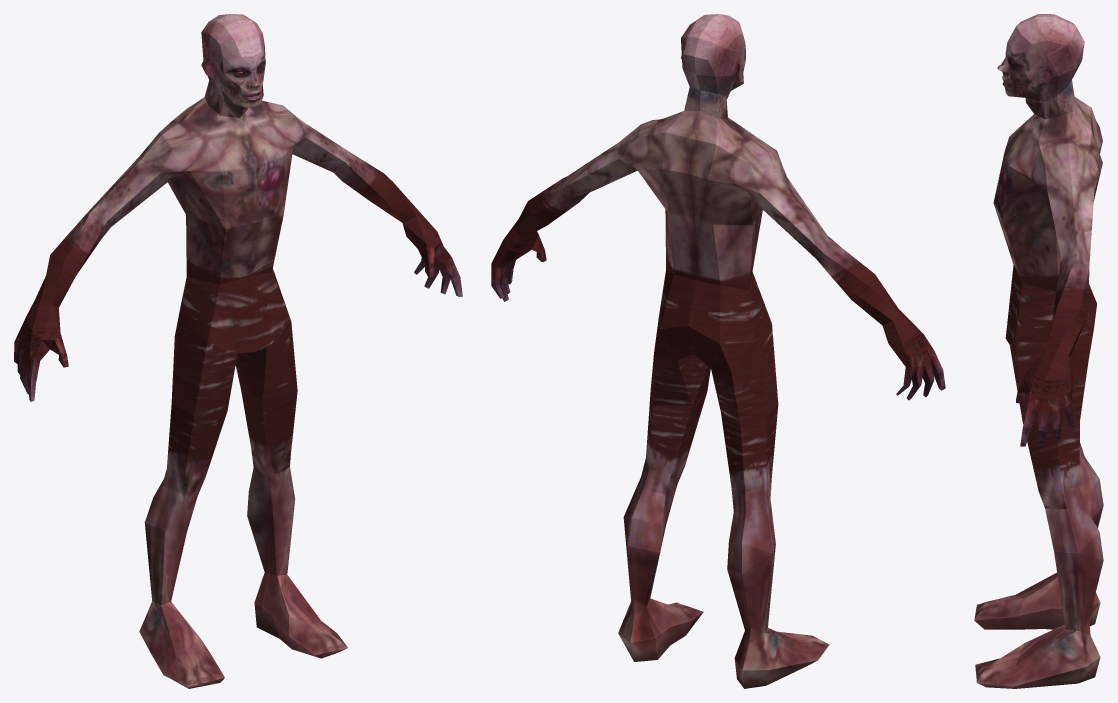
The model's file is zombie.obj.
3 renders of one model, left to right at view 1: azimuth 30°, elevation 25°; view 2: azimuth 150°, elevation 25°; view 3: azimuth 270°, elevation 25°, orthographic.
Visible parts, largest first — view 1: fantasy_horde_zombie; view 2: fantasy_horde_zombie; view 3: fantasy_horde_zombie.
Boxes of the visible parts, x1,y1,x2,y2 form: fantasy_horde_zombie: [14, 14, 462, 688]; fantasy_horde_zombie: [491, 14, 945, 688]; fantasy_horde_zombie: [974, 14, 1103, 688].
Bounding box in the file's own units: 50.09 × 70.14 × 12.96.
